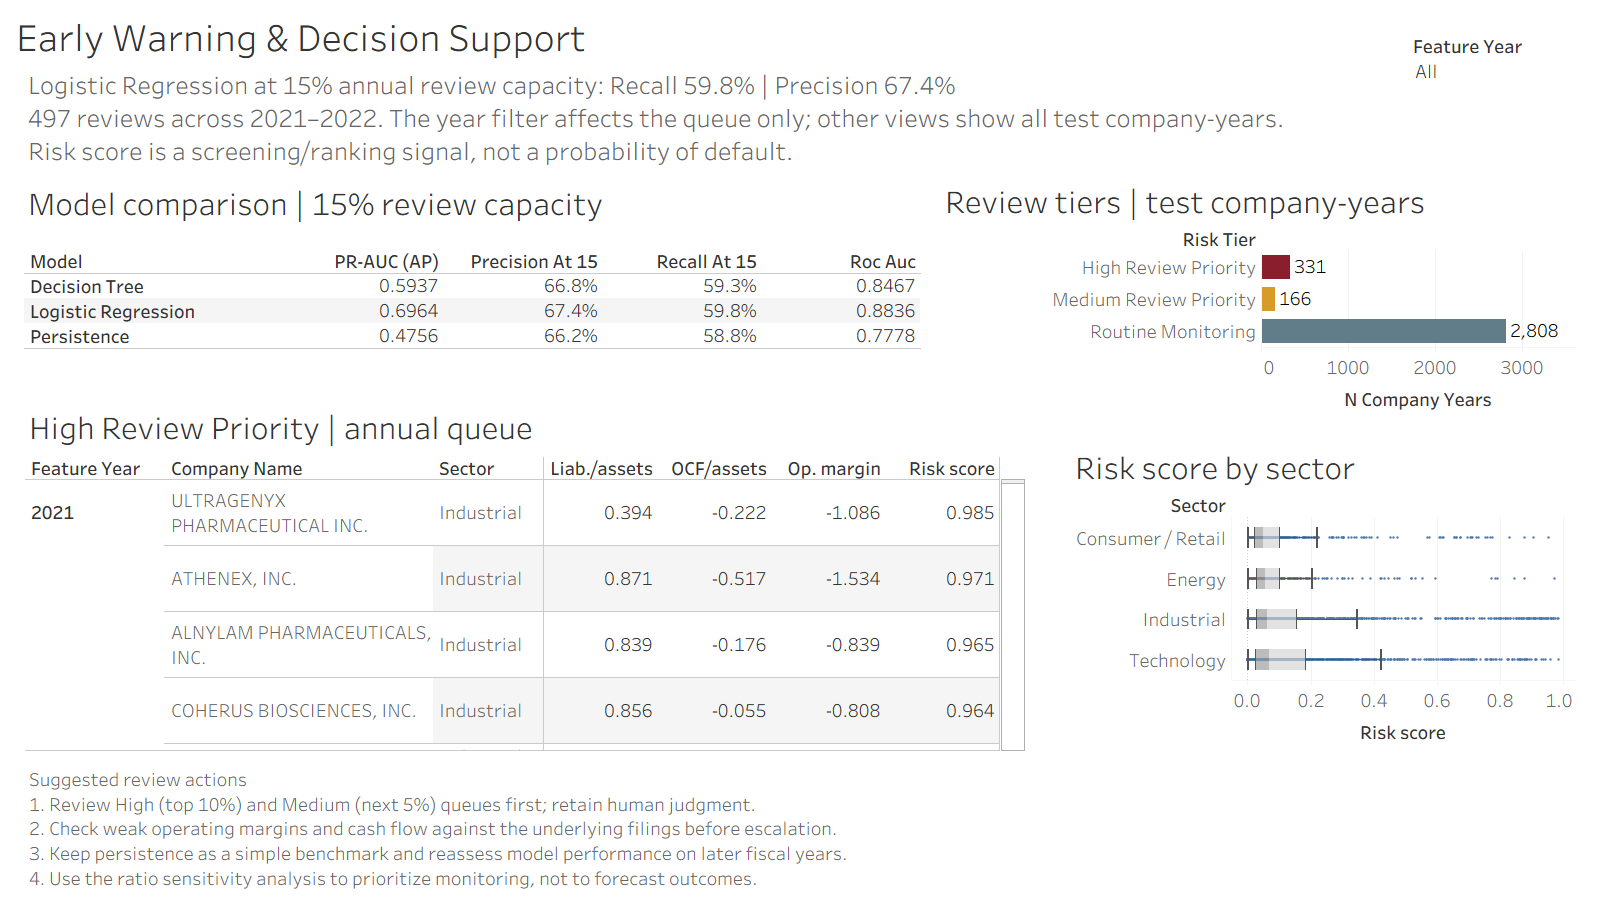

The dashboard page shown, as its layout file describes it:
{"tool":"tableau","page":{"name":"Early Warning & Decision Support","canvas":[1600,900],"ordinal":1},"visuals":[{"type":"title","box":[8,8,1584,58]},{"type":"filter","title":"High Review Priority | annual queue","param":"[federated.1pam9ki0fifzge16bflo21vutbrj].[none:feature_year:ok]","box":[1413,32,159,125]},{"type":"text","box":[24,66,1359,106]},{"type":"worksheet","title":"Review tiers | test company-years","mark":"Automatic","rows":["risk_tier"],"cols":["n_company_years"],"box":[941,174,634,244]},{"type":"worksheet","title":"Model comparison | 15% review capacity","mark":"Automatic","rows":["model"],"box":[24,176,897,182]},{"type":"worksheet","title":"High Review Priority | annual queue","mark":"Automatic","rows":["feature_year","review_rank","company_name","sector"],"box":[25,400,1000,351]},{"type":"worksheet","title":"Risk score by sector","mark":"Circle","rows":["sector"],"cols":["predicted_score"],"box":[1071,440,504,311]},{"type":"text","box":[25,760,1283,137]}]}

Visuals, with their boxes in screenshot pixels (x1, y1, x2, y2), scaled from the page's 1600x900 canvas onto the 1600x900 screenshot:
title: x1=8, y1=8, x2=1592, y2=66
"High Review Priority | annual queue" filter: x1=1413, y1=32, x2=1572, y2=157
text: x1=24, y1=66, x2=1383, y2=172
"Review tiers | test company-years" worksheet: x1=941, y1=174, x2=1575, y2=418
"Model comparison | 15% review capacity" worksheet: x1=24, y1=176, x2=921, y2=358
"High Review Priority | annual queue" worksheet: x1=25, y1=400, x2=1025, y2=751
"Risk score by sector" worksheet (Circle marks): x1=1071, y1=440, x2=1575, y2=751
text: x1=25, y1=760, x2=1308, y2=897
